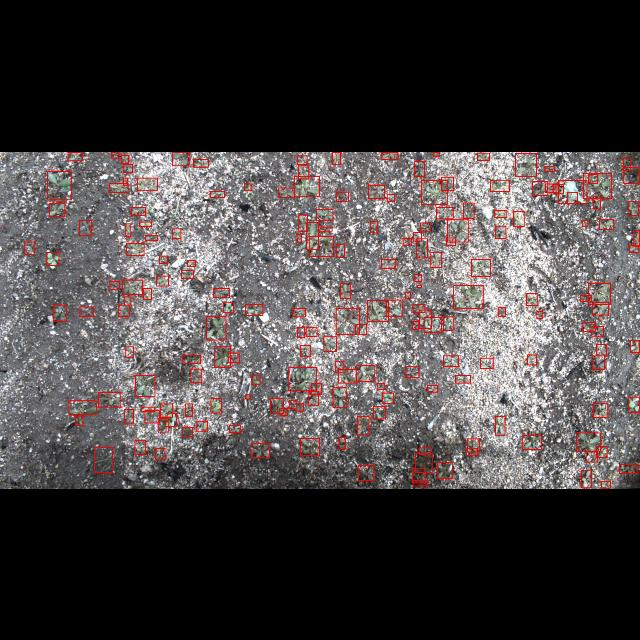weed: (582, 172, 612, 198), (47, 170, 71, 200), (453, 284, 483, 308), (289, 367, 317, 391), (558, 179, 586, 203), (421, 179, 447, 203), (336, 308, 359, 334), (294, 175, 320, 195), (588, 282, 610, 304), (206, 316, 226, 340), (310, 235, 334, 255), (576, 432, 600, 452), (516, 152, 536, 175), (135, 374, 155, 396), (448, 219, 468, 241), (94, 448, 112, 472), (368, 300, 388, 320), (68, 400, 95, 414), (300, 438, 320, 456), (472, 258, 491, 276), (215, 347, 231, 368), (122, 278, 142, 294), (356, 365, 376, 381), (416, 453, 432, 473), (306, 222, 318, 248), (99, 392, 121, 406), (332, 387, 346, 407), (522, 435, 542, 449), (424, 316, 441, 332), (137, 177, 157, 190), (386, 300, 402, 316), (252, 443, 270, 457), (338, 369, 356, 383), (126, 242, 144, 255), (368, 184, 384, 198), (270, 398, 284, 414), (358, 466, 374, 480), (532, 181, 548, 195), (438, 462, 452, 478), (592, 403, 608, 417), (624, 166, 638, 182), (417, 238, 428, 258), (316, 208, 334, 220), (436, 206, 454, 218), (419, 310, 431, 328), (490, 180, 510, 190), (412, 468, 426, 482), (54, 304, 66, 320), (144, 410, 160, 422), (173, 152, 189, 164), (324, 336, 336, 352), (628, 396, 640, 412), (592, 302, 608, 314), (50, 202, 64, 215), (441, 176, 454, 190), (110, 182, 128, 192), (182, 354, 200, 364), (358, 416, 368, 434), (495, 416, 505, 434), (581, 470, 591, 488), (620, 464, 638, 474), (245, 304, 262, 314), (298, 213, 308, 230), (80, 220, 92, 234), (46, 252, 60, 264), (134, 440, 146, 454), (160, 403, 172, 417), (190, 368, 202, 382), (467, 438, 479, 452), (592, 355, 604, 369), (279, 187, 295, 197), (414, 160, 424, 176), (341, 282, 351, 298), (464, 202, 474, 218), (514, 210, 524, 226), (166, 412, 177, 426), (431, 252, 442, 266), (118, 304, 130, 316), (125, 408, 134, 424), (373, 406, 385, 418), (526, 293, 538, 305), (80, 306, 94, 316), (158, 418, 168, 432), (211, 398, 221, 412), (382, 258, 396, 268), (443, 316, 453, 330), (444, 356, 458, 366), (600, 218, 614, 228), (629, 200, 639, 214), (309, 391, 319, 405), (406, 367, 418, 378), (596, 447, 608, 458), (299, 165, 309, 178), (496, 225, 506, 238), (481, 358, 494, 368), (213, 288, 229, 296), (382, 392, 393, 403), (25, 241, 35, 253), (156, 275, 168, 285), (155, 448, 165, 460), (228, 352, 240, 362), (336, 191, 348, 201), (300, 344, 310, 356), (567, 191, 577, 203), (586, 452, 598, 462), (630, 340, 640, 352), (596, 343, 606, 355), (68, 152, 82, 160), (131, 206, 145, 214), (194, 158, 208, 166), (292, 308, 306, 316), (456, 375, 470, 383), (311, 382, 321, 393), (332, 151, 341, 163), (583, 322, 595, 331), (182, 427, 192, 437), (197, 421, 207, 431), (223, 302, 233, 312), (297, 154, 307, 164), (306, 326, 316, 336), (356, 324, 366, 334), (546, 182, 556, 192), (592, 326, 602, 336), (210, 190, 224, 197), (181, 269, 193, 277), (382, 152, 398, 158), (370, 220, 378, 232), (336, 244, 344, 256), (413, 304, 425, 312), (477, 152, 489, 160), (495, 209, 507, 217), (412, 480, 428, 486), (634, 230, 640, 246), (126, 347, 134, 358), (336, 361, 344, 372), (467, 448, 478, 456), (185, 404, 192, 416), (624, 156, 630, 170), (123, 164, 133, 172), (173, 228, 181, 238), (110, 280, 120, 288), (143, 288, 151, 298), (75, 415, 83, 425), (230, 424, 240, 432), (338, 438, 346, 448), (553, 184, 563, 192), (420, 222, 430, 230), (446, 237, 456, 245), (528, 354, 536, 364), (427, 384, 437, 392), (420, 446, 430, 454), (498, 306, 506, 316), (629, 244, 639, 252), (588, 174, 598, 182), (139, 220, 151, 226), (146, 234, 158, 240), (142, 406, 154, 412), (580, 295, 592, 301), (594, 196, 600, 208), (402, 238, 412, 245), (121, 154, 129, 162), (252, 376, 260, 384), (244, 182, 252, 190), (387, 193, 395, 201), (413, 232, 421, 240), (602, 480, 610, 488), (160, 255, 168, 263), (296, 403, 304, 411), (279, 408, 287, 416), (298, 327, 304, 337), (318, 226, 332, 230), (290, 399, 296, 408), (126, 222, 130, 235), (187, 260, 195, 266), (125, 296, 131, 304), (296, 233, 302, 241), (537, 310, 543, 318), (412, 321, 418, 329), (377, 383, 385, 389), (545, 166, 555, 170), (112, 151, 118, 157), (582, 220, 588, 226), (415, 274, 421, 280), (123, 178, 127, 185), (433, 152, 439, 156), (406, 292, 410, 298), (246, 394, 250, 398), (416, 285, 422, 287)
